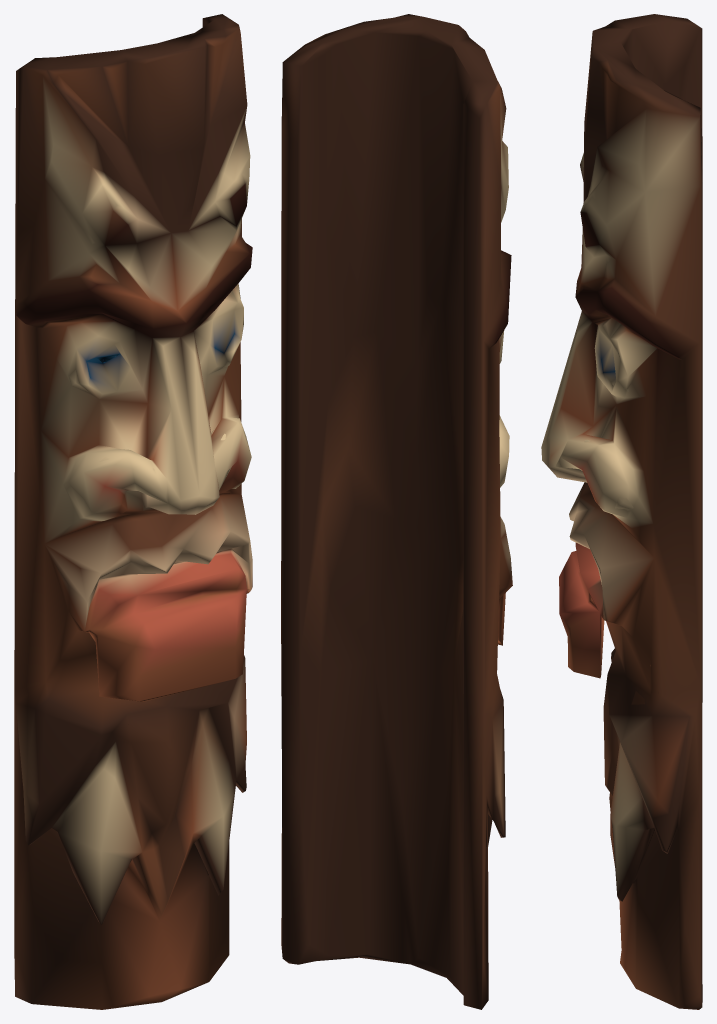
The model's file is gen3d-tribal-totem-pole-lod1.glb.
The picture shows the model from 3 angles, left to right: view 1: azimuth 30°, elevation 25°; view 2: azimuth 150°, elevation 25°; view 3: azimuth 270°, elevation 25°; orthographic projection. The views are drawn at different scales.
Visible parts, largest first — view 1: part_0; view 2: part_0; view 3: part_0.
Boxes of the visible parts, bbox=[...] form: part_0: bbox=[14, 14, 252, 1009]; part_0: bbox=[281, 14, 512, 1009]; part_0: bbox=[541, 14, 702, 1009].
Size of the model in its own units: 0.2391 by 1 by 0.1583.
